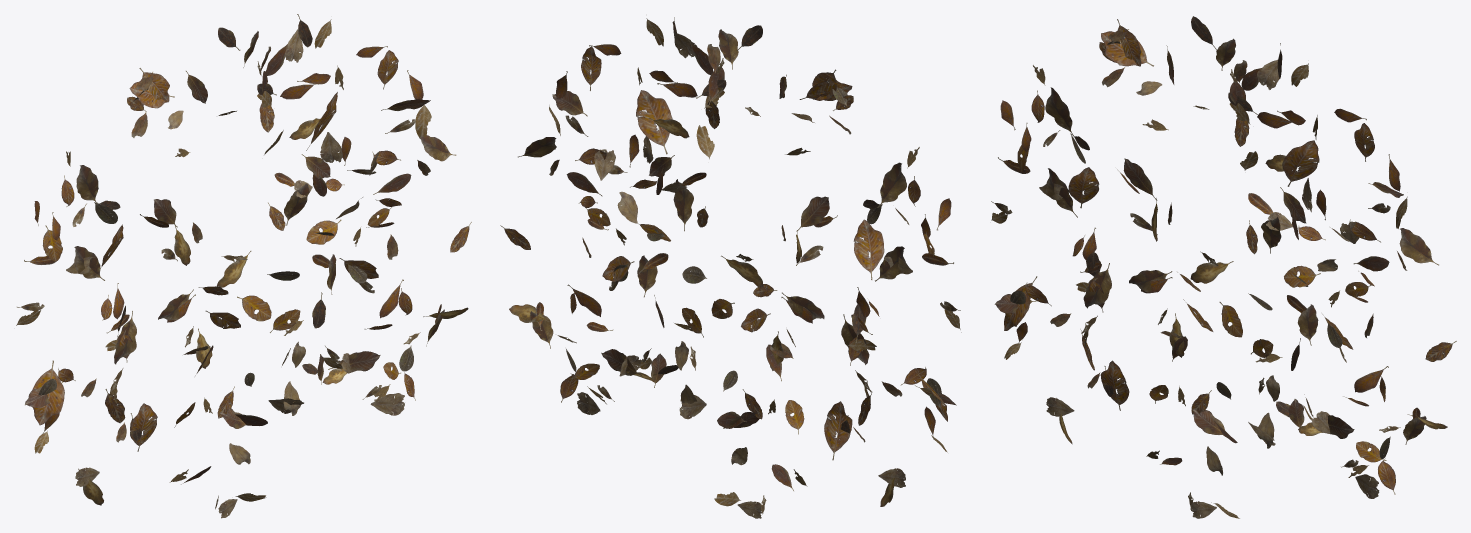
Rendered from Leaf_Pile_01_Var3_LOD1.fbx.
The picture shows the model from 3 angles, left to right: view 1: azimuth 30°, elevation 25°; view 2: azimuth 150°, elevation 25°; view 3: azimuth 330°, elevation 25°; orthographic projection.
Parts seen in each view (by area): view 1: Var3_LOD1; view 2: Var3_LOD1; view 3: Var3_LOD1.
Boxes of the visible parts, x1,y1,x2,y2 form: Var3_LOD1: [16, 14, 471, 518]; Var3_LOD1: [500, 17, 961, 518]; Var3_LOD1: [991, 16, 1456, 518].
Bounding box in the file's own units: 161 × 165 × 8.62.
